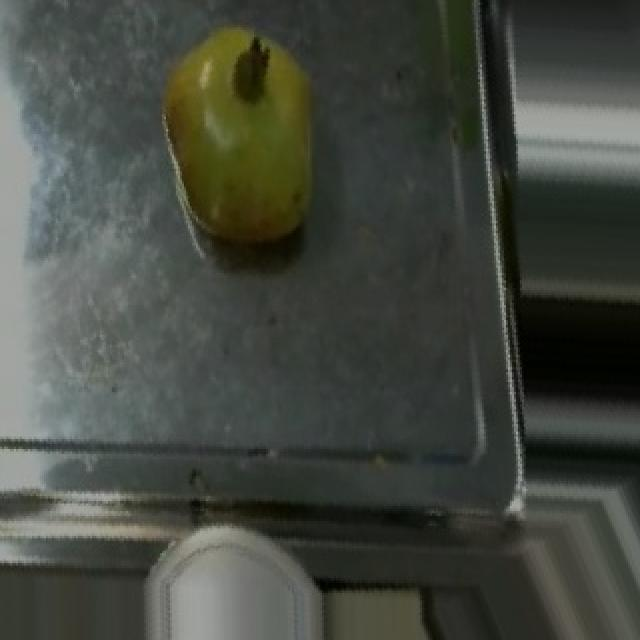fruit: (122, 0, 354, 273)
